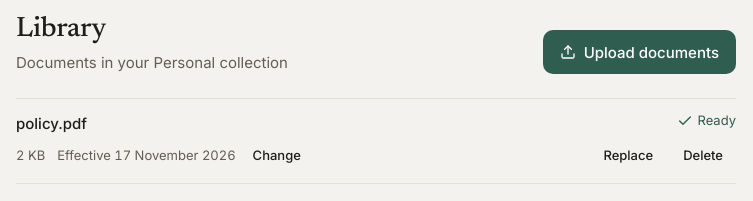
Test: The Effective Date › is shown, and Owners change it
This screenshot has width=753, height=201.
Expected: the text "Effective 17 November 2026 Change" is shown, [57,139,314,171]
Click the button with aria-label "Change the effective date of policy.pdf" at (277, 155), box [240,139,314,171]
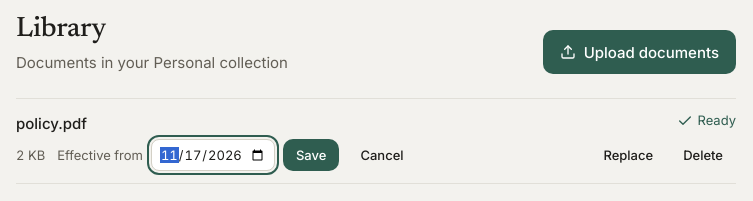
Type "2024-01-01" into the date field labelled "Effective from" at (213, 155), box [151,139,275,171]
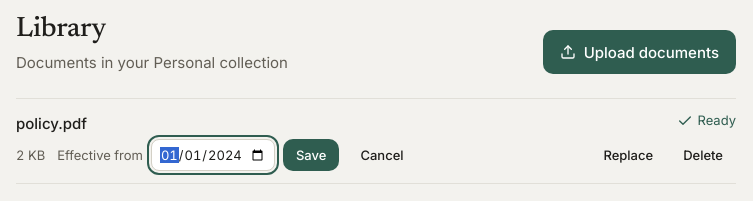
Click the button "Save" at (311, 155), box [283,139,339,171]
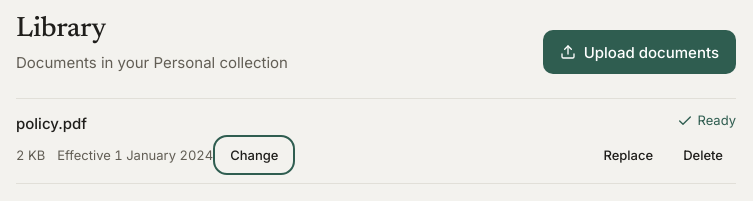
Now the text "Effective 1 January 2024 Change" is shown, box [57,139,292,171]
